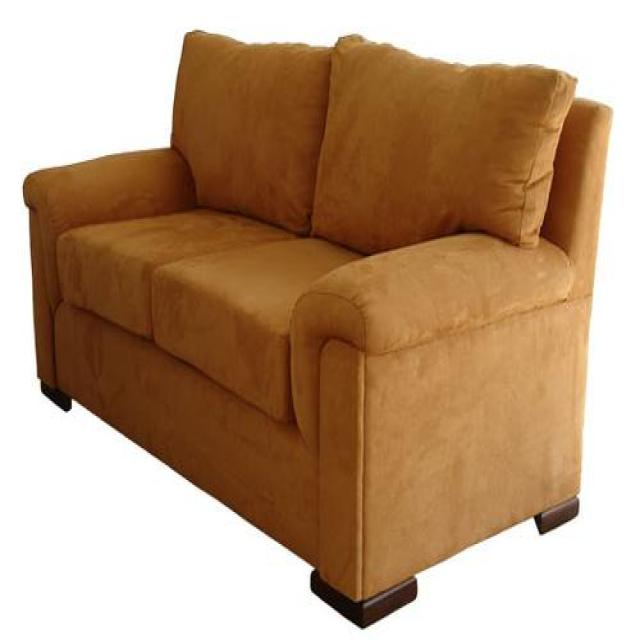sofa: (21, 27, 611, 628)
